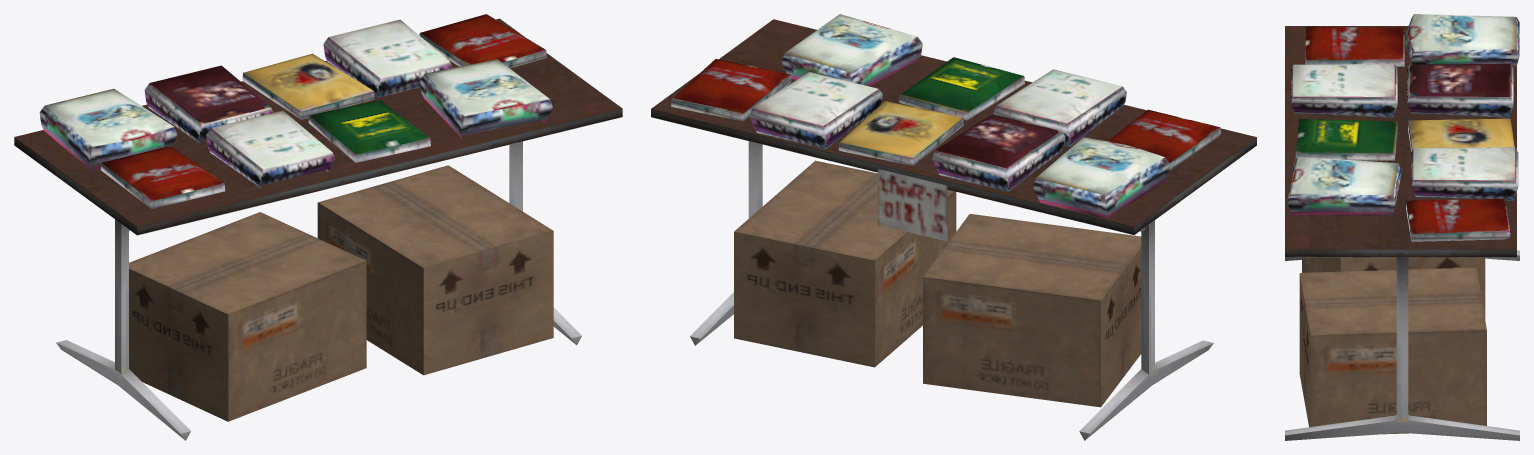
The model's file is table_folding_tshirts.fbx.
3 views of the same model, side by side, from view 1: azimuth 30°, elevation 25°; view 2: azimuth 150°, elevation 25°; view 3: azimuth 270°, elevation 25° (orthographic). The views are drawn at different scales.
Visible parts, largest first — view 1: mesh_0, mesh_1; view 2: mesh_0, mesh_1; view 3: mesh_0, mesh_1.
Part boxes in pixels (x1,y1,x2,y2): mesh_0: (14, 14, 622, 440); mesh_1: (129, 165, 553, 421); mesh_0: (651, 14, 1256, 440); mesh_1: (734, 160, 1141, 407); mesh_0: (1285, 14, 1519, 440); mesh_1: (1299, 257, 1486, 434).
Size of the model in its own units: 180 by 90.58 by 80.
2 materials, 2 textured.
